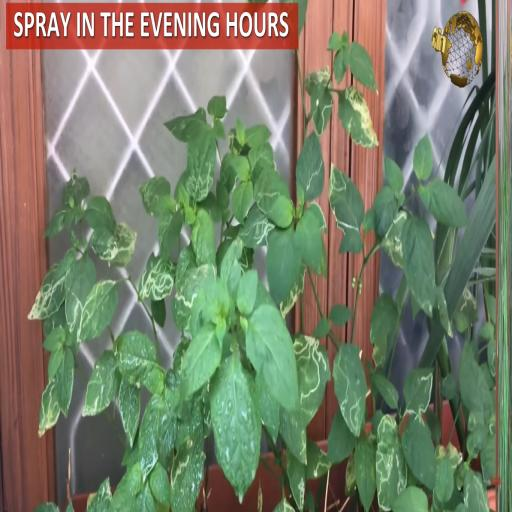Leaf_Miner: (294, 333, 332, 429), (332, 340, 368, 440), (171, 408, 204, 512), (375, 410, 408, 512), (77, 274, 118, 344), (337, 83, 380, 149), (64, 254, 96, 338), (328, 160, 364, 234), (82, 348, 120, 418), (184, 127, 216, 201), (27, 262, 65, 324), (173, 260, 218, 311), (296, 128, 326, 202), (137, 250, 176, 303), (237, 204, 276, 248), (280, 406, 308, 467), (54, 343, 76, 419), (403, 363, 435, 414), (107, 220, 139, 270), (279, 261, 306, 320), (119, 381, 141, 449), (385, 210, 409, 269), (286, 448, 308, 512), (38, 375, 60, 438), (461, 466, 490, 512), (310, 84, 334, 136), (306, 439, 332, 479), (90, 228, 118, 262), (308, 200, 327, 234), (487, 339, 497, 379)
